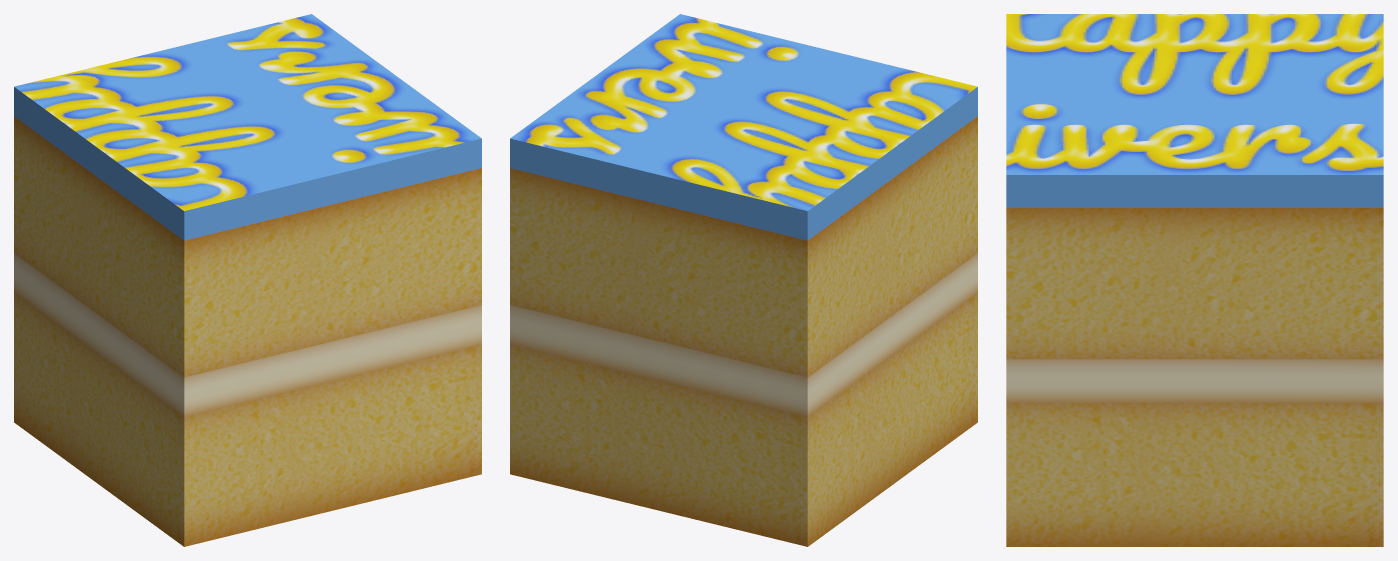
Rendered from SheetCake_01_Slice_05.fbx.
3 views of the same model, side by side, from view 1: azimuth 30°, elevation 25°; view 2: azimuth 150°, elevation 25°; view 3: azimuth 270°, elevation 25° (orthographic). The views are drawn at different scales.
Parts seen in each view (by area): view 1: SheetCake_01_Slice_05; view 2: SheetCake_01_Slice_05; view 3: SheetCake_01_Slice_05.
Part boxes in pixels (box(x1,y1,x2,y2)): SheetCake_01_Slice_05: box(14, 14, 481, 546); SheetCake_01_Slice_05: box(510, 14, 977, 546); SheetCake_01_Slice_05: box(1006, 14, 1383, 546).
Bounding box in the file's own units: 34.22 × 36.86 × 33.86.
